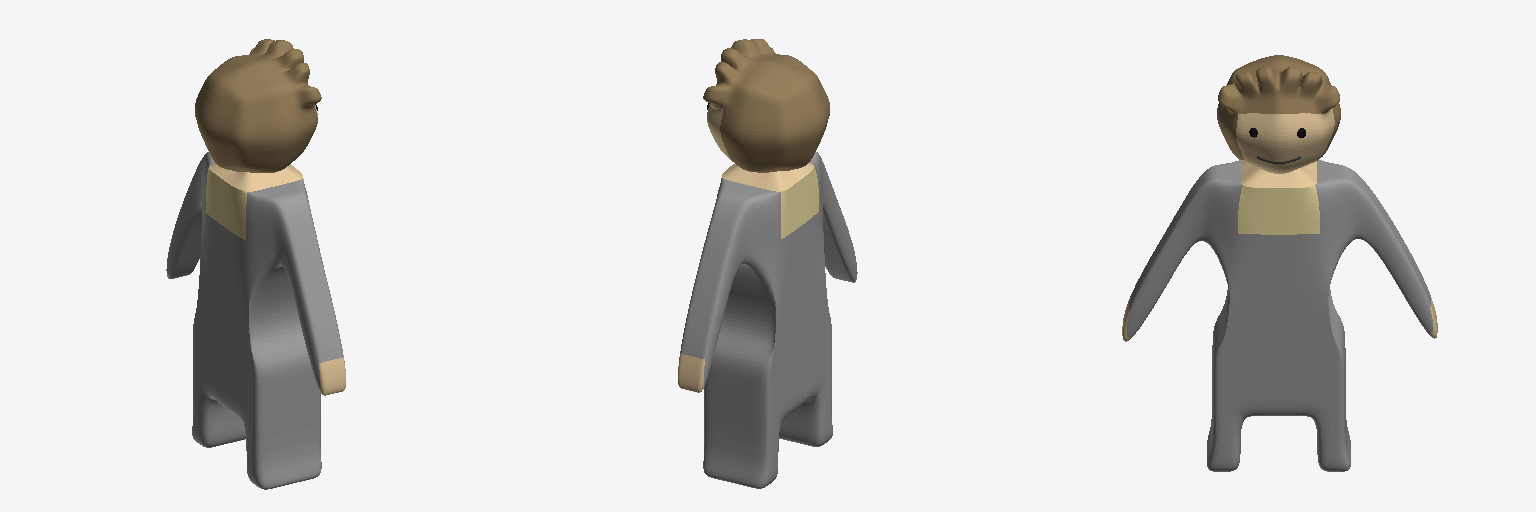
The model's file is MainCharacter.obj.
3 views of the same model, side by side, from view 1: azimuth 30°, elevation 25°; view 2: azimuth 150°, elevation 25°; view 3: azimuth 270°, elevation 25° (orthographic).
Parts seen in each view (by area): view 1: Map1&Map2_(v19~recovered)_MainCharacter_0; view 2: Map1&Map2_(v19~recovered)_MainCharacter_0; view 3: Map1&Map2_(v19~recovered)_MainCharacter_0.
Boxes of the visible parts, box(x1,y1,x2,y2) form: Map1&Map2_(v19~recovered)_MainCharacter_0: box(166, 39, 345, 489); Map1&Map2_(v19~recovered)_MainCharacter_0: box(678, 39, 857, 488); Map1&Map2_(v19~recovered)_MainCharacter_0: box(1122, 55, 1437, 471).
Size of the model in its own units: 8.48 by 30.69 by 21.55.